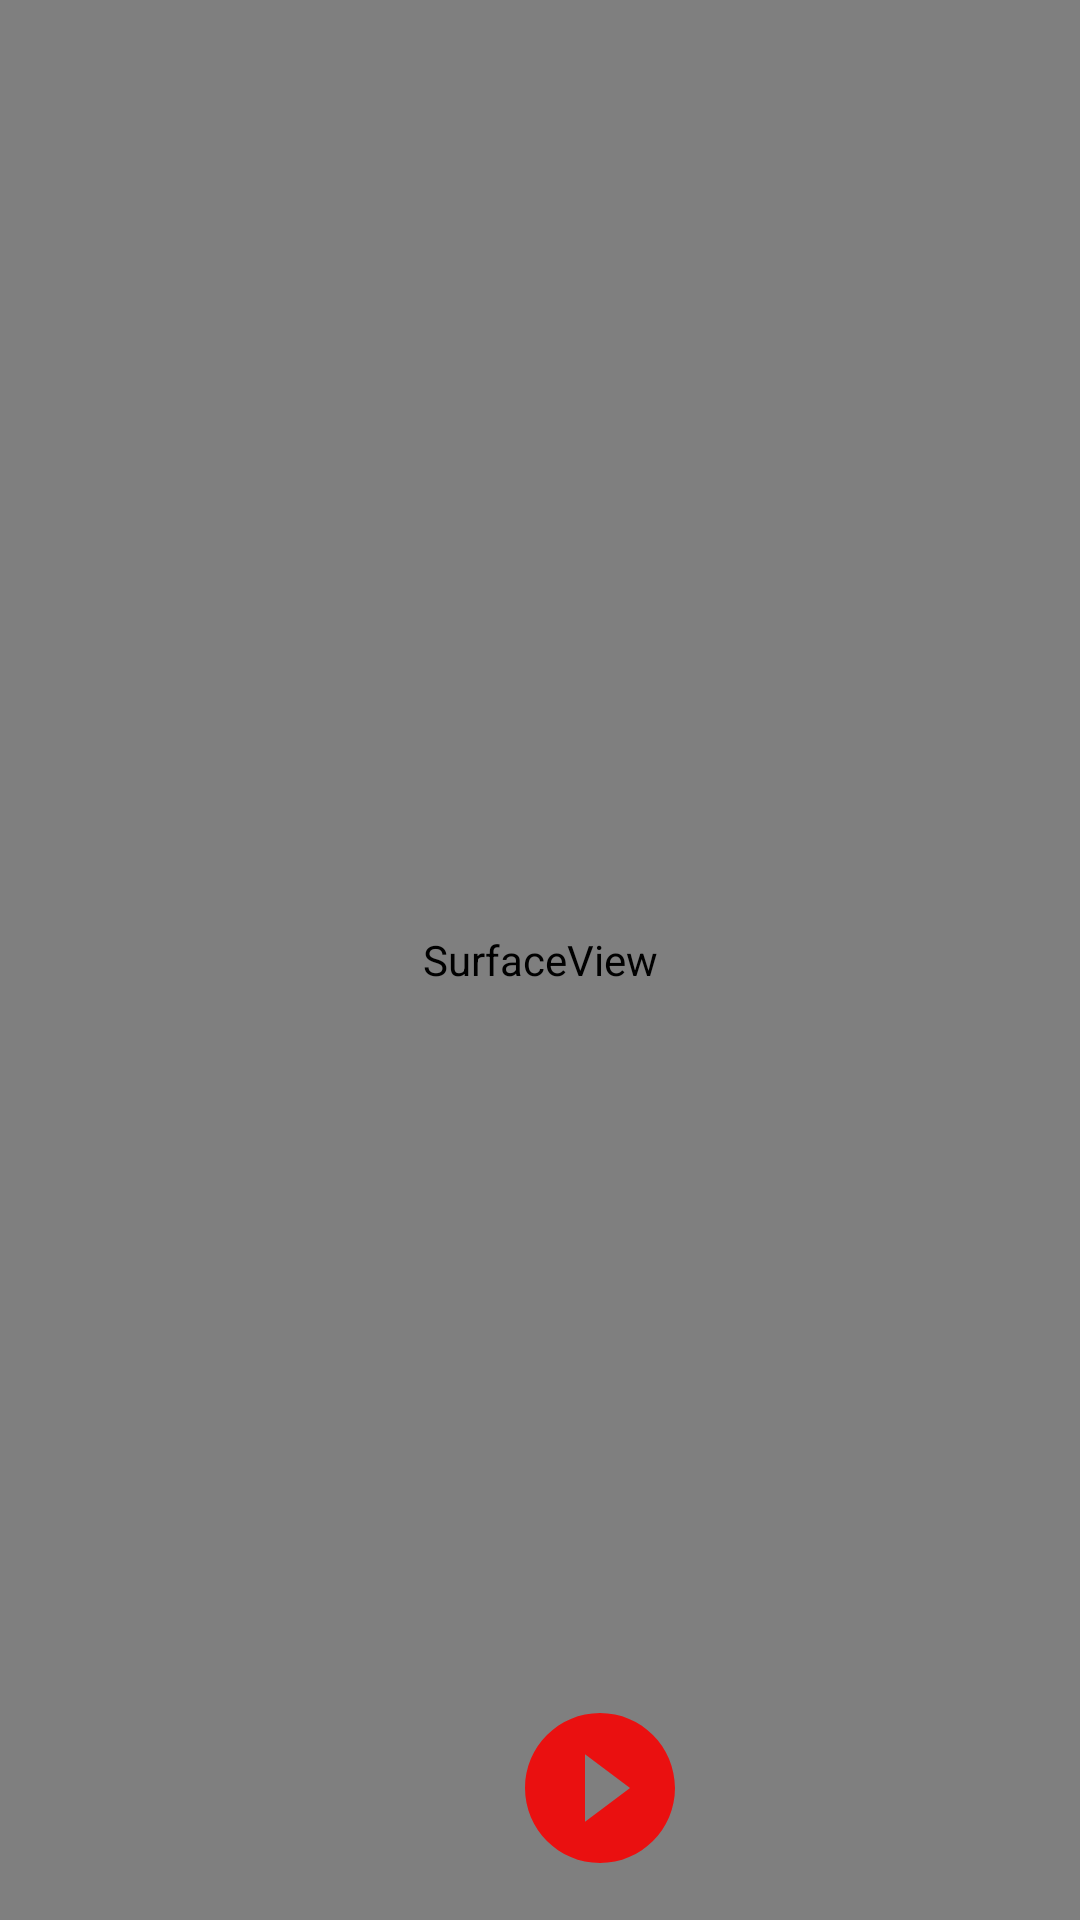

Screen size 1080x1920. Icon name, then its center in pixels as (x,y):
play: (600,1788)
